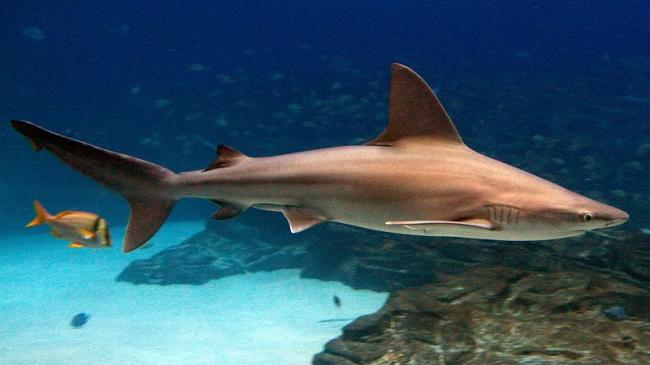fish: (12, 64, 629, 255)
